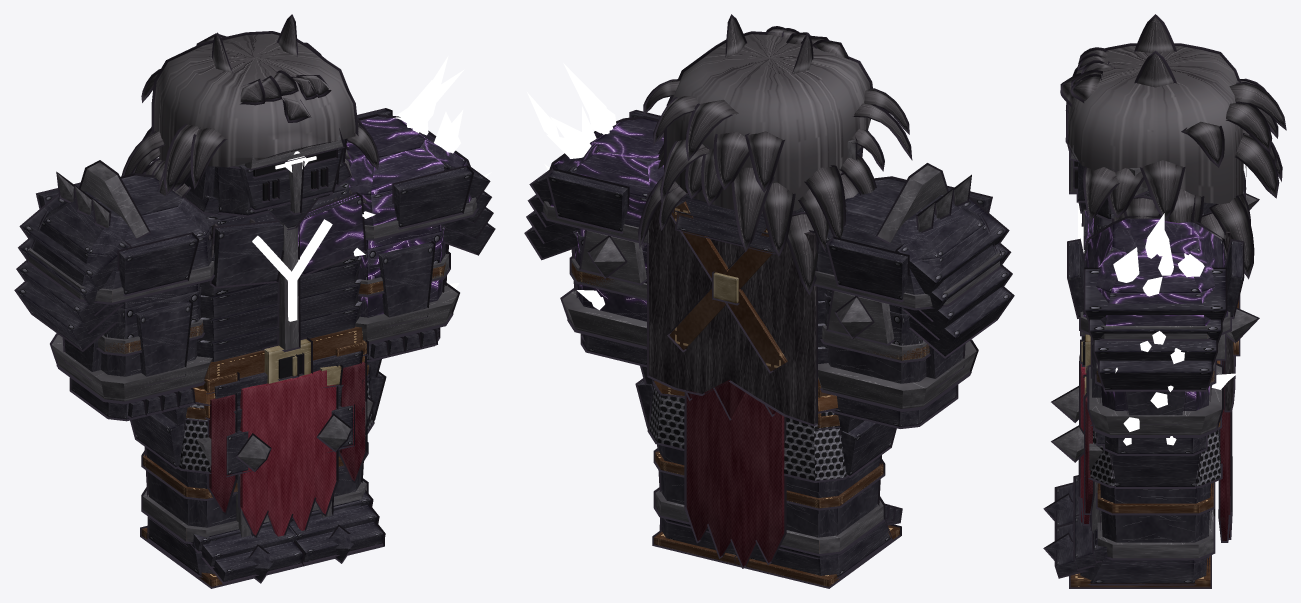
Rendered from WolfKnight.fbx.
The picture shows the model from 3 angles, left to right: view 1: azimuth 30°, elevation 25°; view 2: azimuth 150°, elevation 25°; view 3: azimuth 270°, elevation 25°; orthographic projection.
Parts seen in each view (by area): view 1: LowerTorso_Armor, RightUpperArm_Armor, Head_Pelt, UpperTorso_Armor, LeftUpperArm_Armor, RightFoot_Armor, Head_Armor, RightLowerArm_Armor, RightLowerLeg_Armor, LeftLowerArm_Armor, RightHand_Armor, LeftFoot_Armor (+18 smaller); view 2: Head_Pelt, UpperTorso_Armor, RightUpperArm_Armor, LowerTorso_Armor, LeftUpperArm_Armor, Head_PeltOutline, RightLowerArm_Armor, RightHand_Armor, RightFoot_Armor, RightLowerLeg_Armor, LeftLowerArm_Armor, LeftHand_Armor (+12 smaller); view 3: Head_Pelt, LeftUpperArm_Armor, LeftFoot_Armor, LowerTorso_Armor, LeftLowerLeg_Armor, Head_PeltOutline, LeftHand_Armor, LeftLowerArm_Armor, LeftUpperArm_Glow, LeftUpperArm_ArmorOutline, LowerTorso_ArmorOutline, LeftFoot_ArmorOutline (+11 smaller).
Boxes of the visible parts, left/top/right/bottom form: LowerTorso_Armor: left=131, top=326, right=384, bottom=536; RightUpperArm_Armor: left=17, top=162, right=214, bottom=354; Head_Pelt: left=124, top=17, right=377, bottom=196; UpperTorso_Armor: left=184, top=162, right=366, bottom=361; LeftUpperArm_Armor: left=344, top=109, right=493, bottom=295; RightFoot_Armor: left=141, top=491, right=302, bottom=586; Head_Armor: left=184, top=134, right=345, bottom=227; RightLowerArm_Armor: left=58, top=287, right=204, bottom=400; RightLowerLeg_Armor: left=143, top=430, right=269, bottom=537; LeftLowerArm_Armor: left=358, top=226, right=451, bottom=341; RightHand_Armor: left=52, top=335, right=212, bottom=419; LeftFoot_Armor: left=289, top=481, right=383, bottom=564; Head_Pelt: left=640, top=17, right=910, bottom=292; UpperTorso_Armor: left=649, top=194, right=828, bottom=424; RightUpperArm_Armor: left=814, top=165, right=1012, bottom=360; LowerTorso_Armor: left=637, top=366, right=894, bottom=566; LeftUpperArm_Armor: left=526, top=111, right=663, bottom=298; Head_PeltOutline: left=638, top=14, right=912, bottom=294; RightLowerArm_Armor: left=820, top=291, right=969, bottom=407; RightHand_Armor: left=818, top=341, right=976, bottom=426; RightFoot_Armor: left=736, top=500, right=900, bottom=586; RightLowerLeg_Armor: left=779, top=456, right=883, bottom=556; LeftLowerArm_Armor: left=569, top=230, right=646, bottom=345; LeftHand_Armor: left=562, top=290, right=646, bottom=364; Head_Pelt: left=1062, top=17, right=1285, bottom=276; LeftUpperArm_Armor: left=1068, top=218, right=1242, bottom=389; LeftFoot_Armor: left=1045, top=509, right=1213, bottom=587; LowerTorso_Armor: left=1080, top=334, right=1230, bottom=540; LeftLowerLeg_Armor: left=1053, top=427, right=1213, bottom=542; Head_PeltOutline: left=1060, top=14, right=1286, bottom=279; LeftHand_Armor: left=1089, top=365, right=1221, bottom=453; LeftLowerArm_Armor: left=1092, top=309, right=1257, bottom=433; LeftUpperArm_Glow: left=1113, top=213, right=1204, bottom=363; LeftUpperArm_ArmorOutline: left=1067, top=216, right=1244, bottom=391; LowerTorso_ArmorOutline: left=1078, top=336, right=1232, bottom=542; LeftFoot_ArmorOutline: left=1043, top=509, right=1215, bottom=588.
Bounding box in the file's own units: 546 × 611 × 260.
6 materials, 4 textured.
